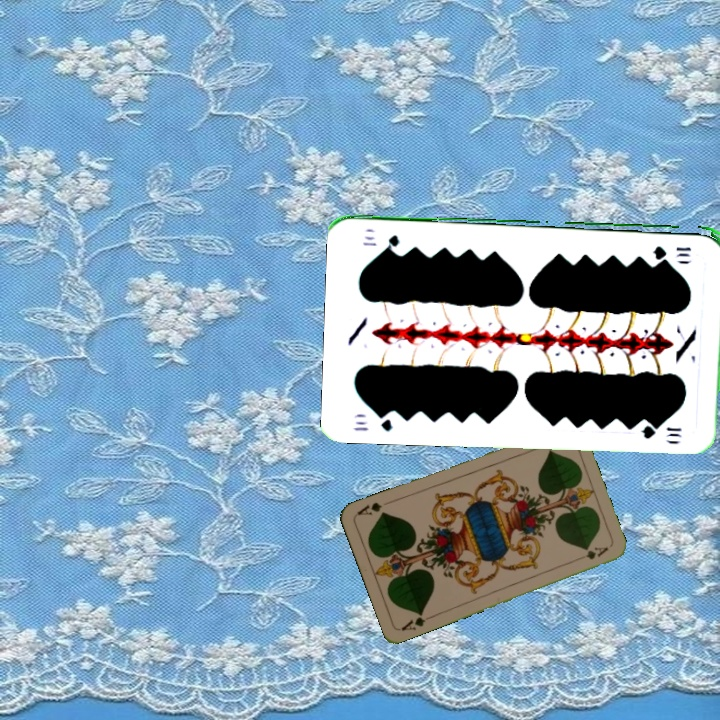G10: (349, 408, 395, 434), (649, 242, 694, 260)
GA: (397, 608, 436, 633)
